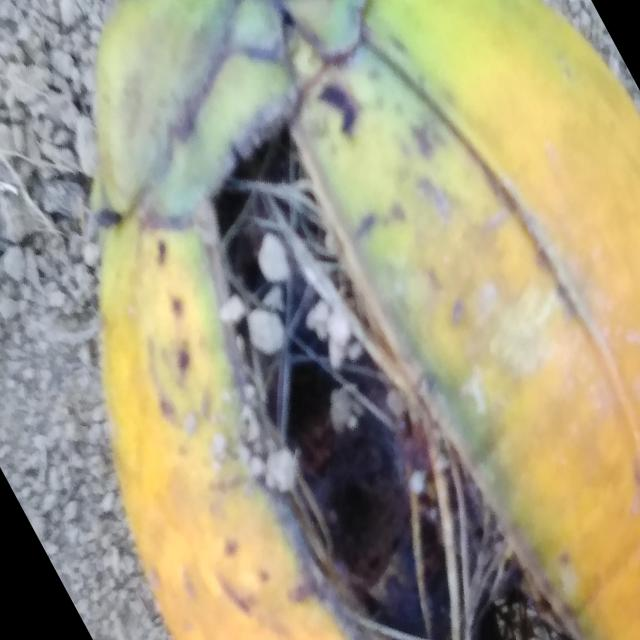damaged: (88, 0, 640, 640)
